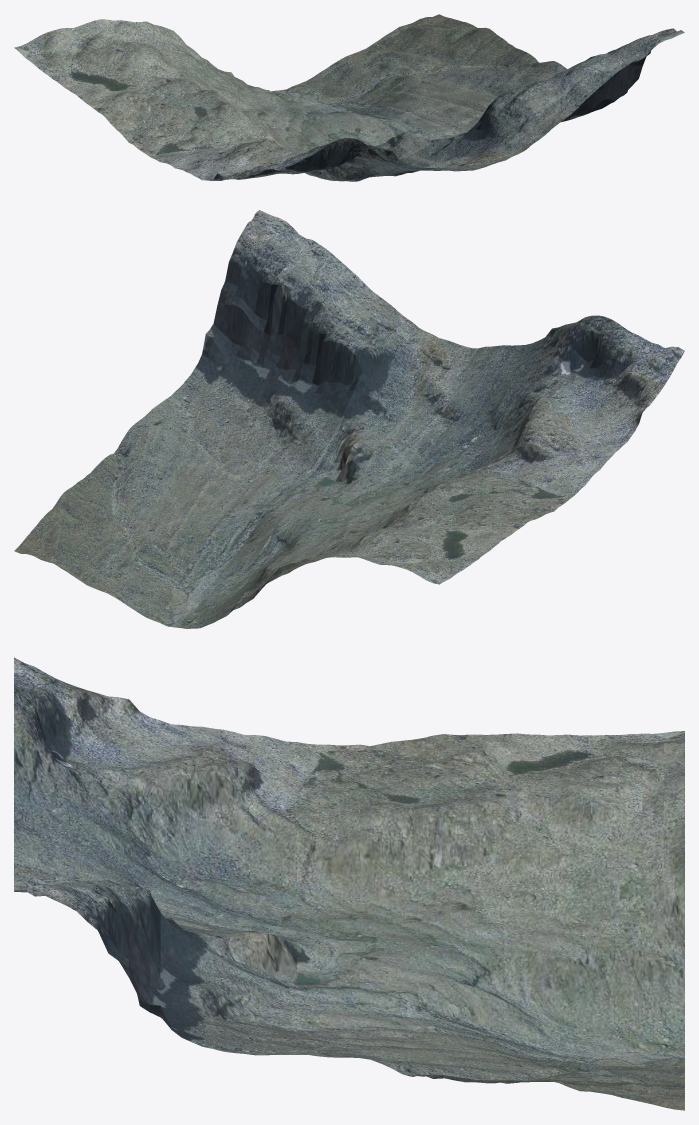
The model's file is Silv_tile_34.gltf.
3 renders of one model, top to bottom at view 1: azimuth 30°, elevation 25°; view 2: azimuth 150°, elevation 25°; view 3: azimuth 270°, elevation 25°, orthographic. The views are drawn at different scales.
Parts seen in each view (by area): view 1: 18.070; view 2: 18.070; view 3: 18.070.
Part boxes in pixels (x1=…): 18.070: x1=14, y1=14, x2=684, y2=181; 18.070: x1=14, y1=210, x2=684, y2=628; 18.070: x1=14, y1=657, x2=684, y2=1110.
Bounding box in the file's own units: 0.5 × 0.2238 × 0.5.
Materials: 1 (1 with a texture image).
